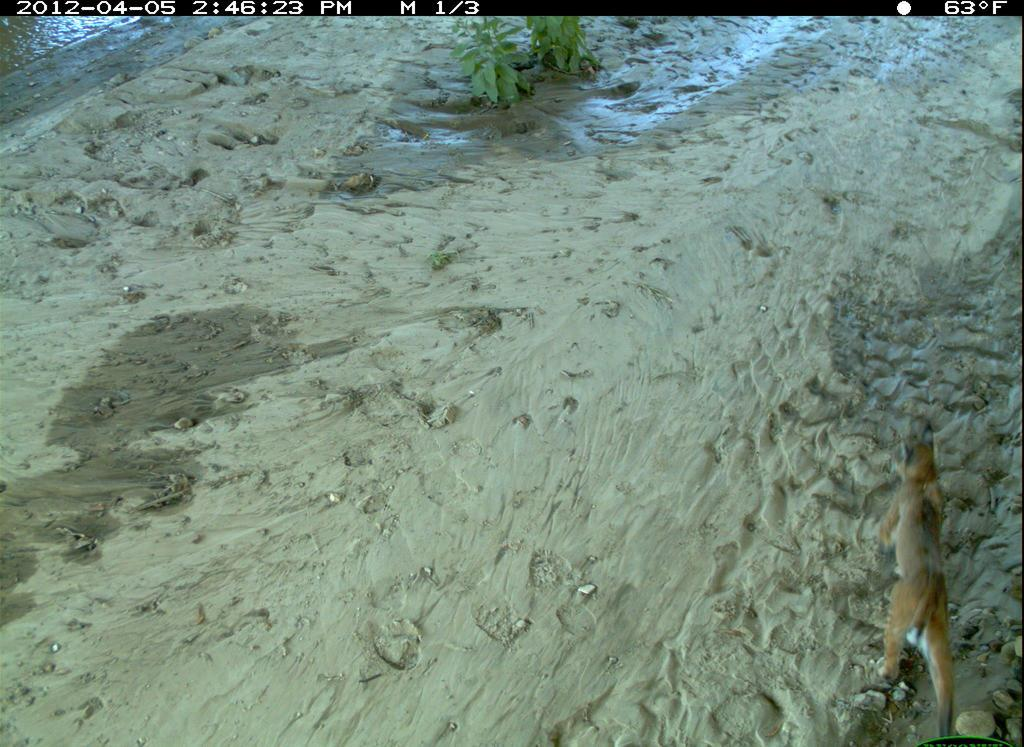bobcat: (866, 422, 985, 737)
